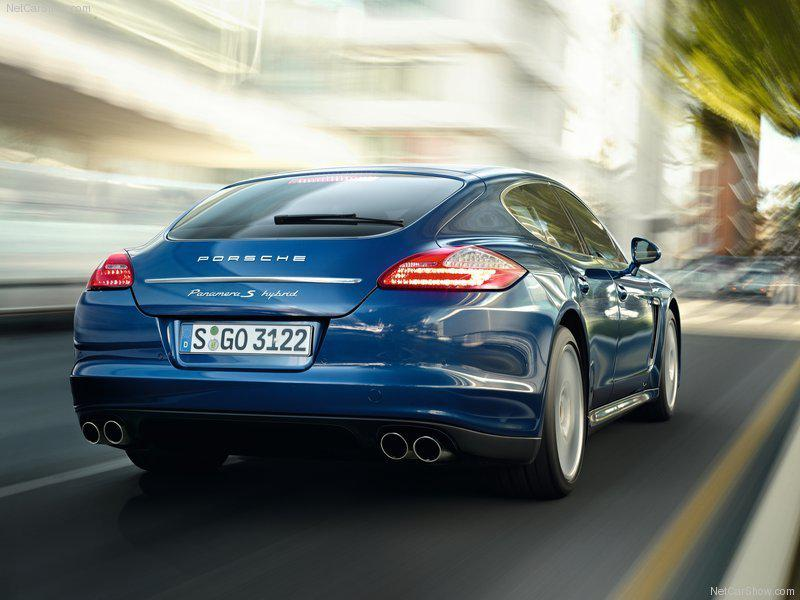Car: (47, 148, 698, 504)
